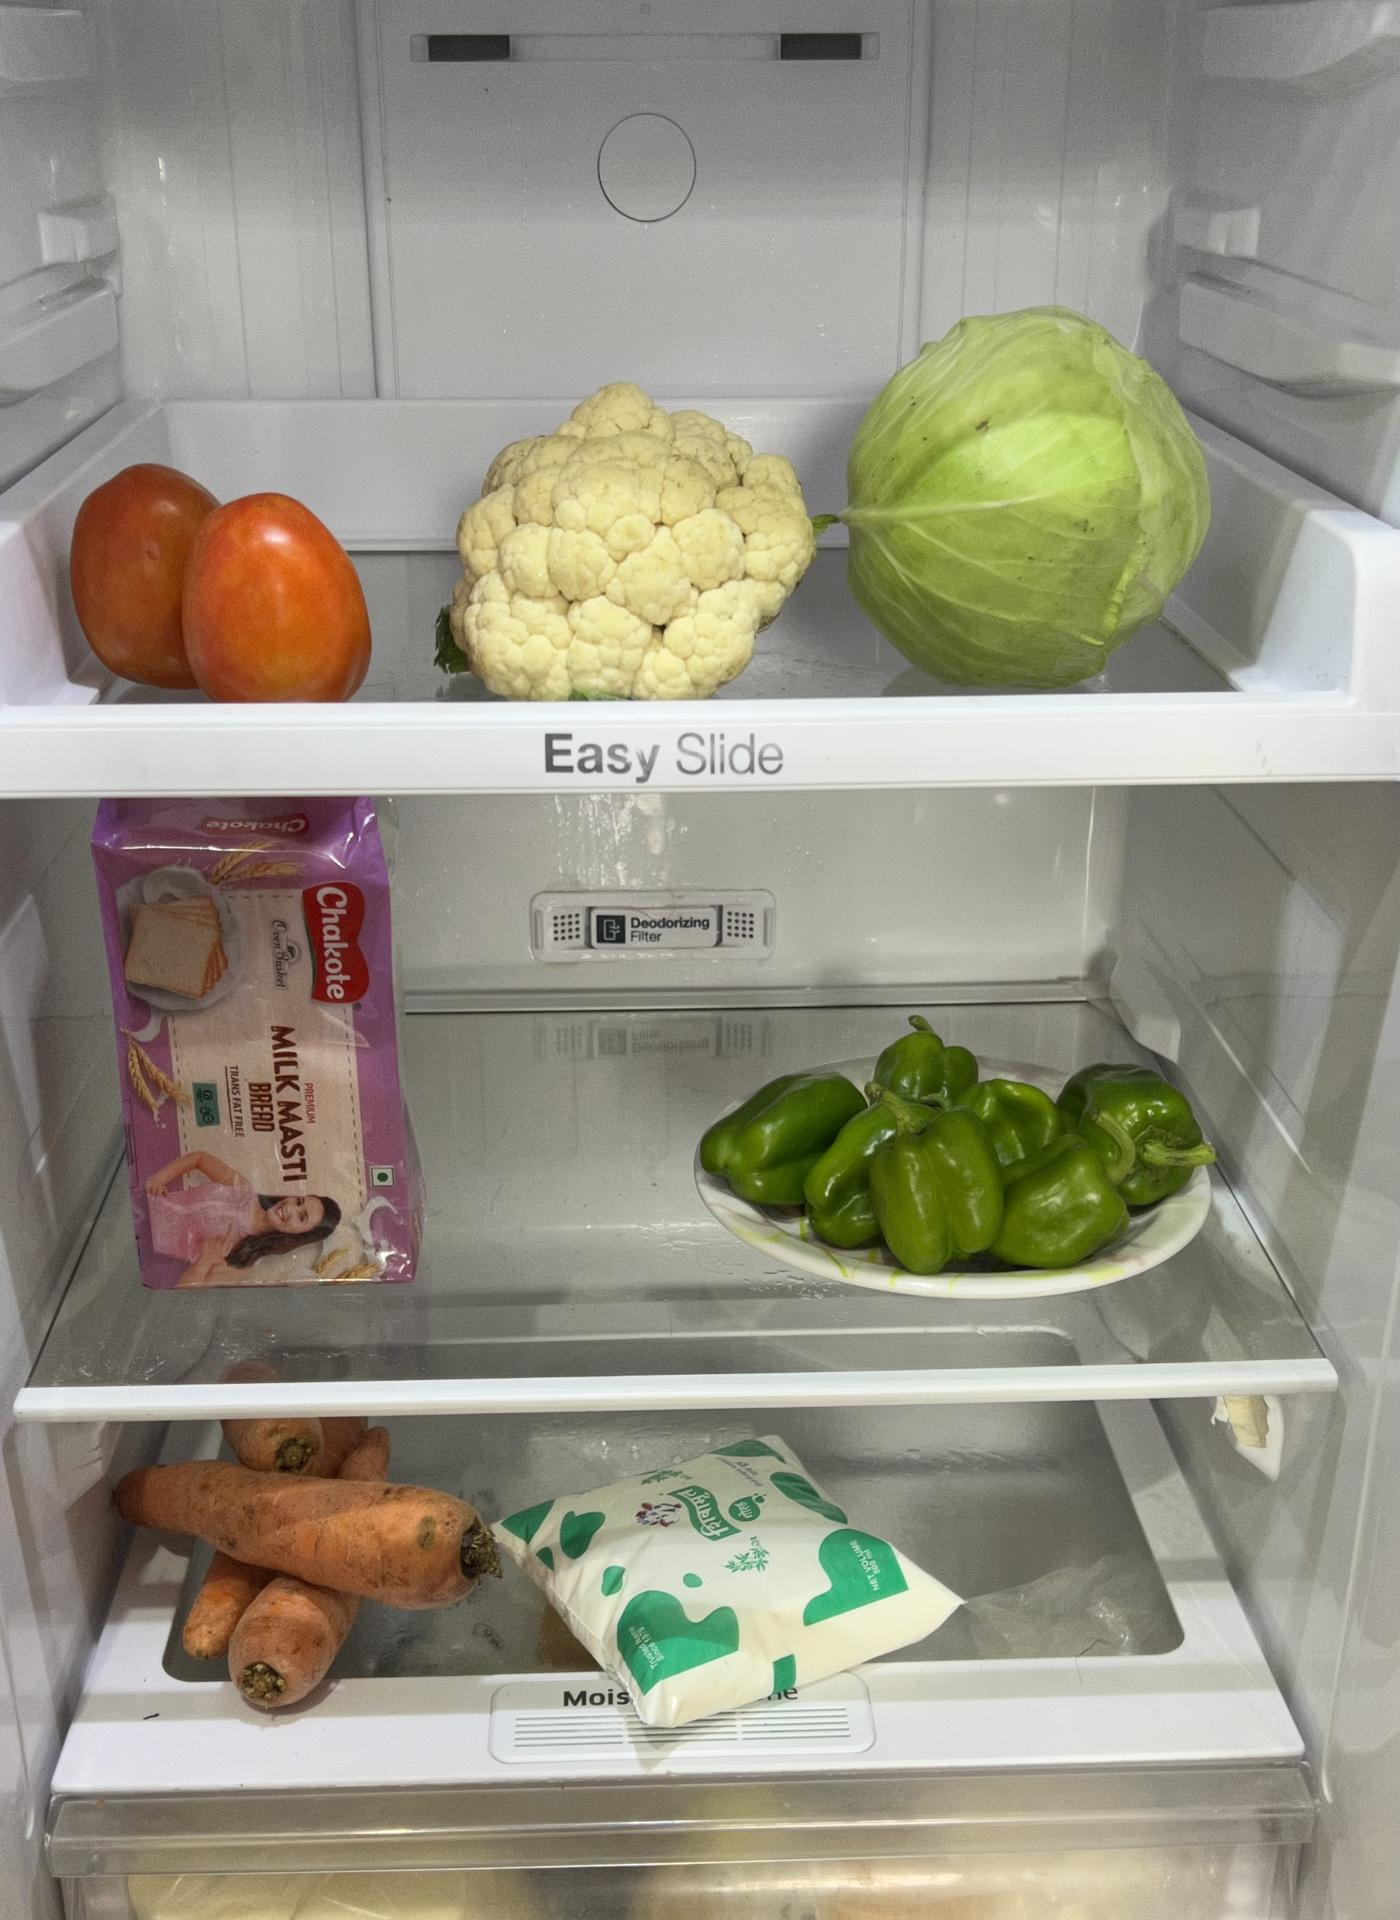bread: (85, 792, 438, 1283)
cabbage: (842, 300, 1206, 690)
capsicum: (702, 1002, 1220, 1278)
carrots: (104, 1400, 496, 1710)
cauliflower: (455, 374, 824, 705)
milk: (501, 1436, 971, 1726)
tomato: (58, 456, 382, 713)
